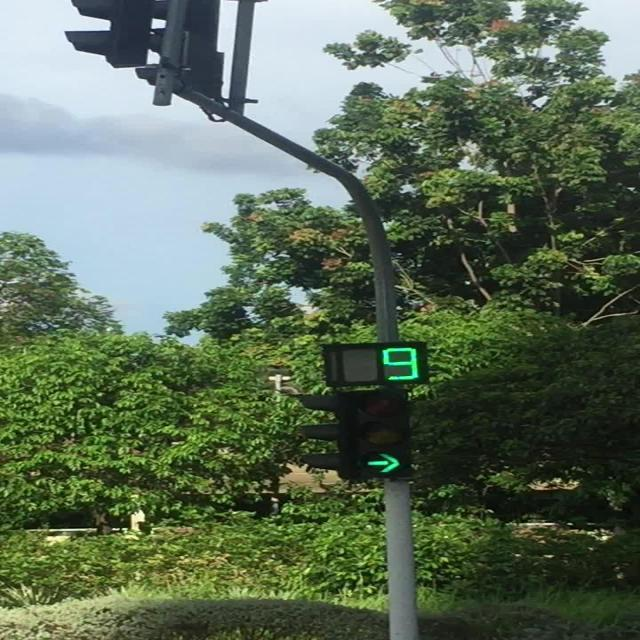traffic light: (296, 390, 413, 481), (64, 0, 154, 69), (321, 341, 429, 387), (355, 394, 413, 479), (297, 393, 353, 479)
